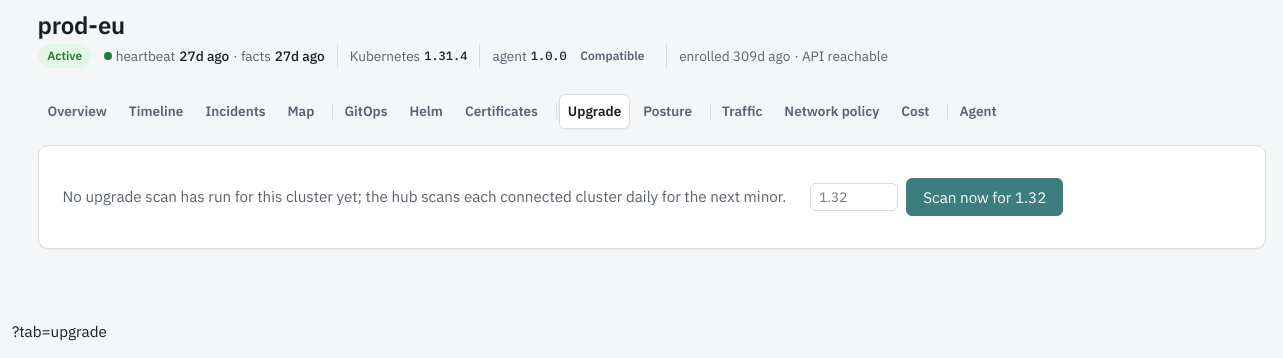
Test: ClusterDetailPage tabs › keeps the active tab in the URL
This screenshot has width=1283, height=358.
Check: the text "No upgrade scan has run for this cluster yet" is shown, box [63, 186, 786, 206]
Click the tab "Traffic" at (742, 111), box [713, 94, 771, 129]
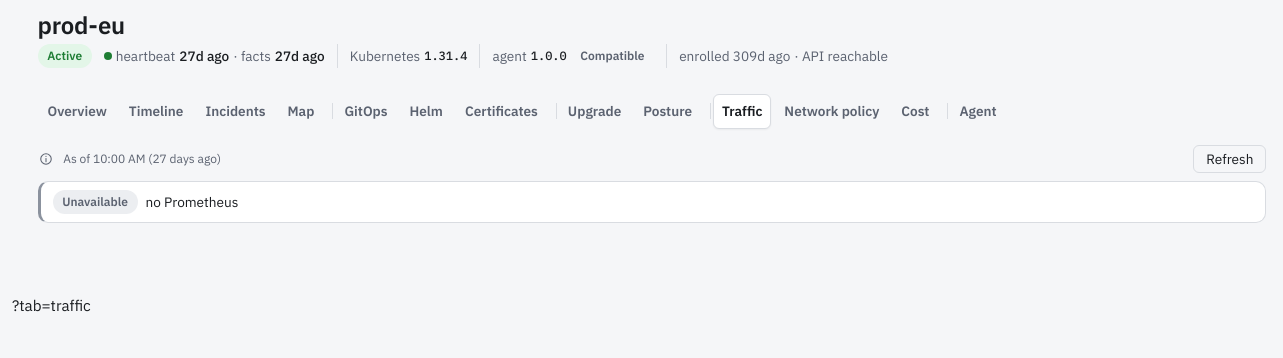
Check: the text with test id "loc" reads "?tab=traffic", box [12, 295, 91, 315]
Check: the text "no Prometheus" is shown, box [146, 192, 238, 212]
